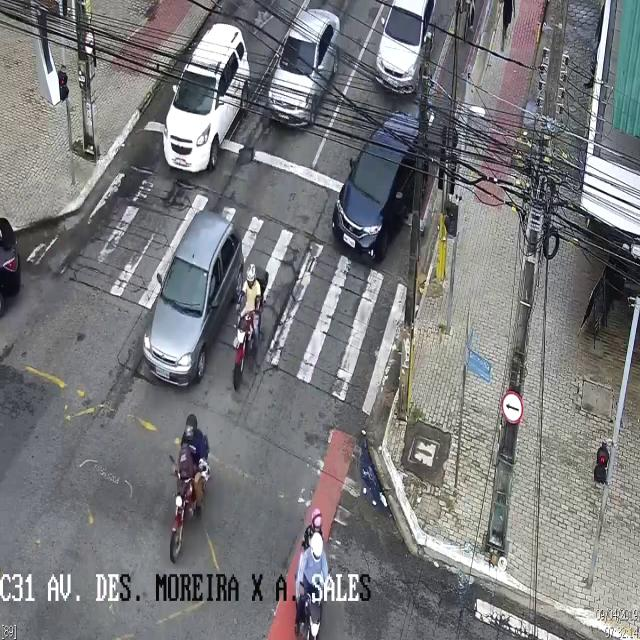Car: (143, 208, 244, 387), (332, 111, 427, 264), (162, 22, 250, 174), (269, 8, 340, 130), (375, 0, 437, 95), (0, 200, 29, 330)
Motorcycle: (169, 414, 209, 564), (231, 263, 269, 397), (294, 508, 330, 639)
